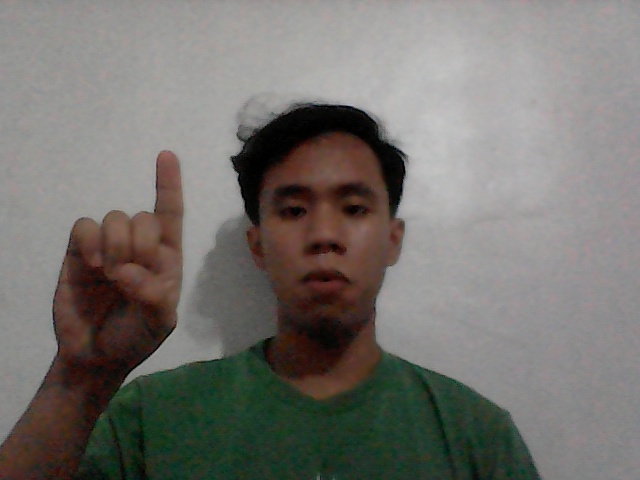D: (37, 138, 217, 398)
